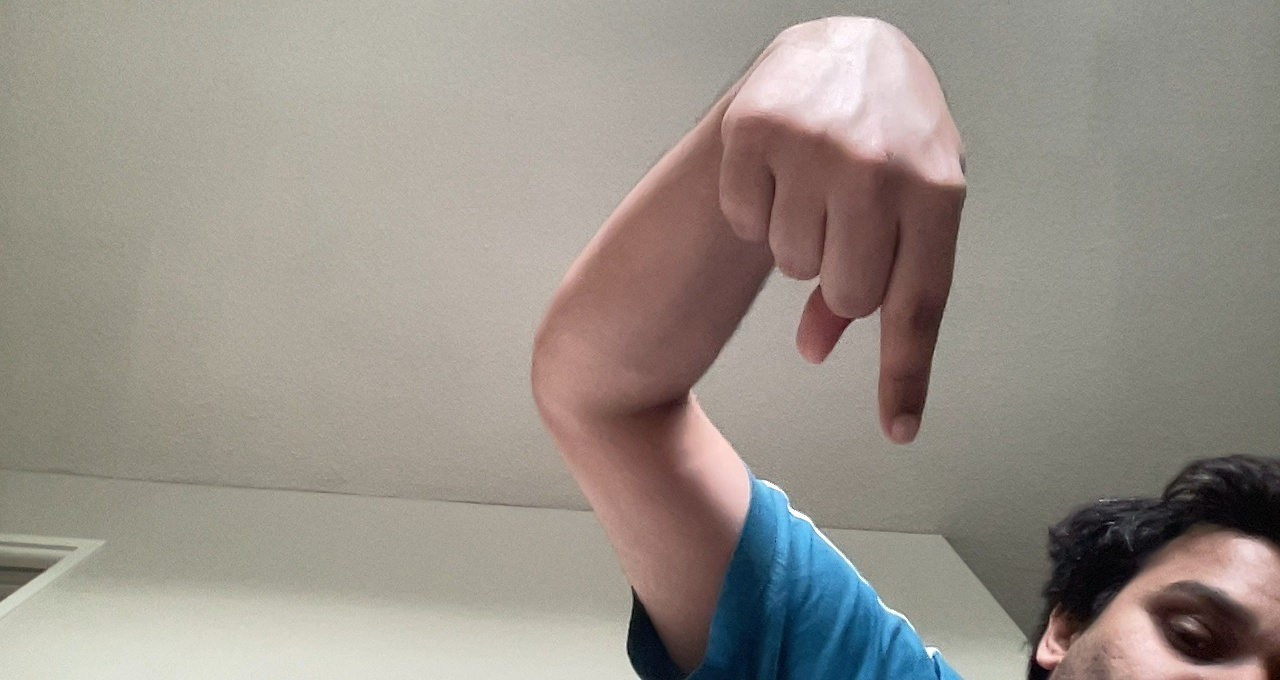fingerdown: (711, 11, 980, 447)
